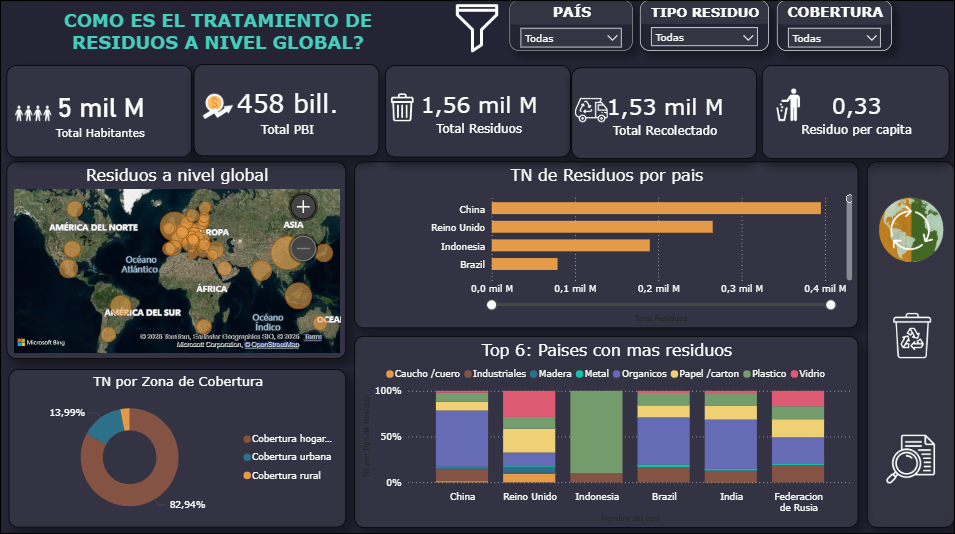

What the dashboard file says about the page in this screenshot:
{"tool":"powerbi","page":{"name":"RESIDUOS","canvas":[1280,720],"ordinal":1},"visuals":[{"type":"card","fields":{"Values":["Tabla Medidas.Residuo por persona"]},"box":[1023.1,87.6,251.2,125.3],"z":0,"group":"g3"},{"type":"card","fields":{"Values":["Tabla Medidas.Total Recolectado"]},"box":[768.5,89.9,248.4,122.8],"z":0,"group":"g5"},{"type":"shape","box":[1162.8,216.4,117.4,490.8],"z":0},{"type":"slicer","title":"PAÍS ","fields":{"Values":["Tabla Puente.Nombre del pais "]},"box":[683.9,0,165.7,68.2],"z":1000},{"type":"card","fields":{"Values":["Tabla Medidas.Total PBI"]},"box":[261.6,86.4,249,123],"z":1000,"group":"g2"},{"type":"slicer","title":"TIPO RESIDUO","fields":{"Values":["RESIDUOS.Tipo de Residuo"]},"box":[859.4,0,172.7,68.2],"z":2000},{"type":"card","fields":{"Values":["Tabla Medidas.Total Residuos"]},"box":[517.9,87.6,249,123.1],"z":2000,"group":"g4"},{"type":"image","box":[263.8,93.1,58,96.2],"z":3000,"group":"g2"},{"type":"clusteredBarChart","title":" TN de Residuos por pais","fields":{"Category":["Tabla Puente.Nombre del pais "],"Y":["Tabla Medidas.Total Residuos"]},"box":[476.6,217.3,675.6,222.9],"z":3000},{"type":"hundredPercentStackedColumnChart","title":"Top 6: Paises con mas residuos","fields":{"Category":["Tabla Puente.Nombre del pais "],"Y":["Sum(RESIDUOS.TN por Tipo de Residuo)"],"Series":["RESIDUOS.Tipo de Residuo"]},"box":[476.6,450.4,675.6,257.1],"z":4000},{"type":"donutChart","title":"TN por Zona de Cobertura","fields":{"Category":["TRANSPORTE.Zona de Cobertura"],"Y":["Sum(TRANSPORTE.TN por Zona de Cobertura)"]},"box":[12.7,495.1,452.7,212.2],"z":5000},{"type":"slicer","title":"COBERTURA","fields":{"Values":["TRANSPORTE.Zona de Cobertura"]},"box":[1043.2,0,154.6,68.2],"z":6000},{"type":"card","fields":{"Values":["Tabla Medidas.Total Habitantes"]},"box":[10.2,87.6,249,123.1],"z":6000,"group":"g1"},{"type":"map","title":"Residuos a nivel global","fields":{"Category":["Tabla Puente.Nombre del pais "],"Size":["Avg(Tabla TN totales RESIDUOS (2).Cant total toneladas generadas)"]},"box":[9.9,216.4,455.5,264.5],"z":7000},{"type":"image","box":[1016.9,114,81.3,54.7],"z":8000,"group":"g3"},{"type":"image","box":[1171.2,250.4,103.3,110.3],"z":8000},{"type":"image","box":[603.1,0,73.8,75.2],"z":9000},{"type":"textbox","box":[18.2,6.8,549.4,68.2],"z":10000},{"type":"group","id":"g1","title":"Grupo 1","box":[10.2,87.6,249.1,122.8],"z":11000},{"type":"image","box":[1188.2,404.6,70.7,90.5],"z":12000},{"type":"image","box":[1181.1,578.5,80.6,75],"z":13000},{"type":"group","id":"g2","title":"Grupo 3","box":[261.6,86.4,249.1,124],"z":14000},{"type":"group","id":"g3","title":"Grupo 2","box":[1016.9,87.6,262.7,125.1],"z":15000},{"type":"group","id":"g4","title":"Grupo 4","box":[510.7,87.6,255.9,122.8],"z":16000},{"type":"group","id":"g5","title":"Grupo 5","box":[767.8,89.9,249.1,122.8],"z":17000},{"type":"image","box":[15.8,114.4,60.8,73.6],"z":17000,"group":"g1"},{"type":"image","box":[767.8,118.5,53.4,56.9],"z":18000,"group":"g5"},{"type":"image","box":[510.7,120.7,59.4,46.7],"z":18001,"group":"g4"}]}

Visuals, with their boxes in screenshot pixels (x1, y1, x2, y2), scaled from the page's 1280x720 canvas onto the 955x534 screenshot:
card - Tabla Medidas.Residuo por persona: bbox=(763, 65, 951, 158)
card - Tabla Medidas.Total Recolectado: bbox=(573, 67, 759, 158)
shape: bbox=(868, 160, 954, 525)
"PAÍS " slicer: bbox=(510, 0, 634, 51)
card - Tabla Medidas.Total PBI: bbox=(195, 64, 381, 155)
"TIPO RESIDUO" slicer: bbox=(641, 0, 770, 51)
card - Tabla Medidas.Total Residuos: bbox=(386, 65, 572, 156)
image: bbox=(197, 69, 240, 140)
" TN de Residuos por pais" clusteredBarChart: bbox=(356, 161, 860, 326)
"Top 6: Paises con mas residuos" hundredPercentStackedColumnChart: bbox=(356, 334, 860, 525)
"TN por Zona de Cobertura" donutChart: bbox=(9, 367, 347, 525)
"COBERTURA" slicer: bbox=(778, 0, 894, 51)
card - Tabla Medidas.Total Habitantes: bbox=(8, 65, 193, 156)
"Residuos a nivel global" map: bbox=(7, 160, 347, 357)
image: bbox=(759, 85, 819, 125)
image: bbox=(874, 186, 951, 268)
image: bbox=(450, 0, 505, 56)
textbox: bbox=(14, 5, 423, 56)
"Grupo 1" group: bbox=(8, 65, 193, 156)
image: bbox=(887, 300, 939, 367)
image: bbox=(881, 429, 941, 485)
"Grupo 3" group: bbox=(195, 64, 381, 156)
"Grupo 2" group: bbox=(759, 65, 954, 158)
"Grupo 4" group: bbox=(381, 65, 572, 156)
"Grupo 5" group: bbox=(573, 67, 759, 158)
image: bbox=(12, 85, 57, 139)
image: bbox=(573, 88, 613, 130)
image: bbox=(381, 90, 425, 124)
